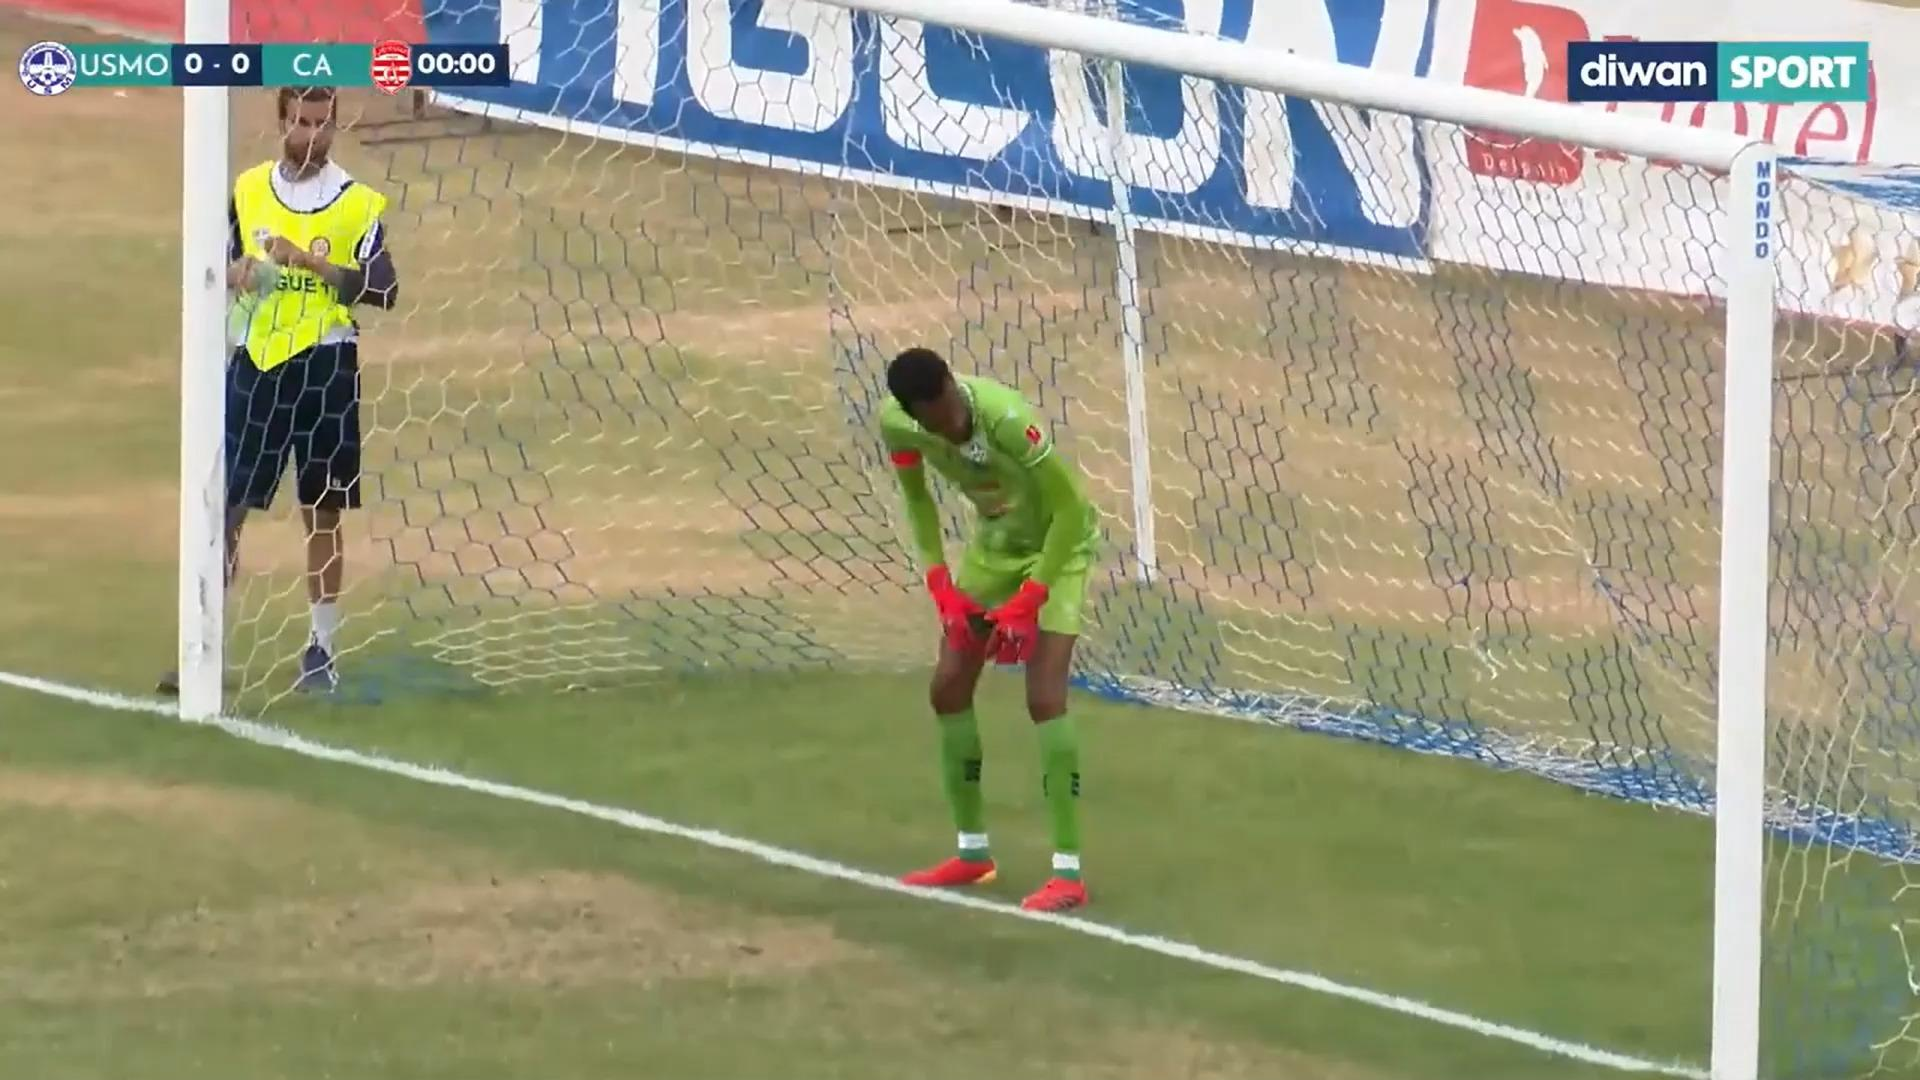goalkeeper: (858, 334, 1155, 935)
